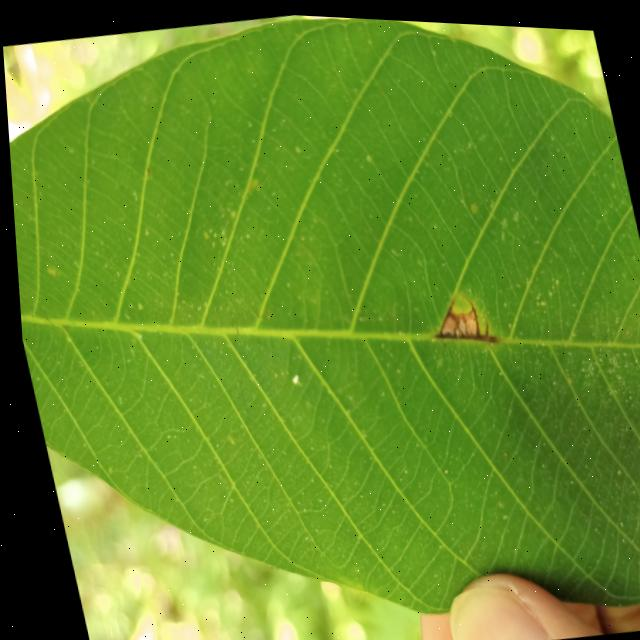Corynespora: (420, 287, 498, 350)
